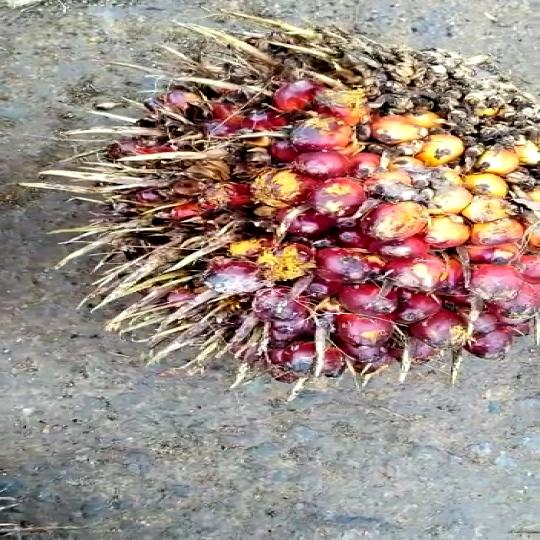masak: (80, 26, 540, 385)
